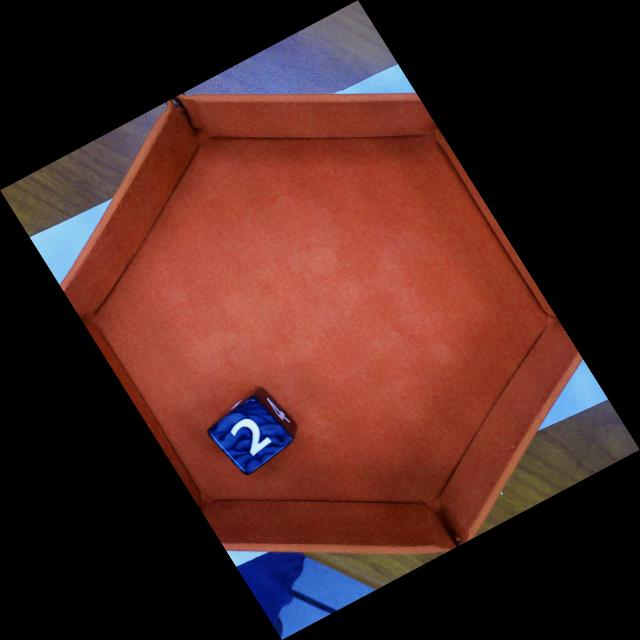dice: (207, 395, 294, 476)
